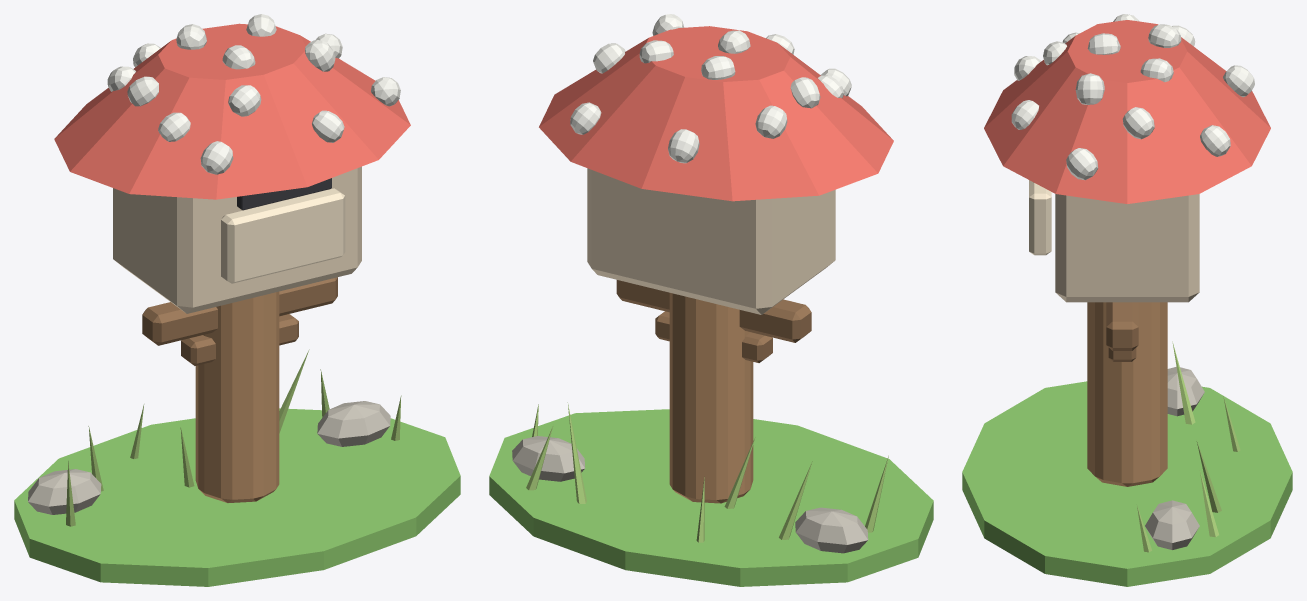
3 renders of one model, left to right at view 1: azimuth 30°, elevation 25°; view 2: azimuth 150°, elevation 25°; view 3: azimuth 270°, elevation 25°, orthographic. The views are drawn at different scales.
Parts seen in each view (by area): view 1: round grass base, broad red mushroom roof, short rounded wooden post, cream mushroom mailbox body, front letter flap, chunky cross support, small rock, small rock.001, small lower brace, wide black slot, big clean mushroom roof dot.004, big clean mushroom roof dot.002 (+7 smaller); view 2: round grass base, broad red mushroom roof, cream mushroom mailbox body, short rounded wooden post, chunky cross support, small rock.001, small rock, small lower brace, big clean mushroom roof dot.009, big clean mushroom roof dot.005, big clean mushroom roof dot.013, big clean mushroom roof dot.001 (+5 smaller); view 3: round grass base, broad red mushroom roof, cream mushroom mailbox body, short rounded wooden post, small rock, front letter flap, chunky cross support, small rock.001, big clean mushroom roof dot.014, big clean mushroom roof dot.012, big clean mushroom roof dot.007, big clean mushroom roof dot.013 (+6 smaller).
Boxes of the visible parts, x1=… form: round grass base: x1=14, y1=408, x2=460, y2=586; broad red mushroom roof: x1=54, y1=23, x2=410, y2=199; short rounded wooden post: x1=195, y1=291, x2=279, y2=502; cream mushroom mailbox body: x1=113, y1=166, x2=361, y2=313; front letter flap: x1=221, y1=188, x2=345, y2=283; chunky cross support: x1=142, y1=277, x2=337, y2=345; small rock: x1=317, y1=401, x2=390, y2=446; small rock.001: x1=28, y1=469, x2=101, y2=514; small lower brace: x1=181, y1=314, x2=298, y2=365; wide black slot: x1=237, y1=178, x2=331, y2=210; big clean mushroom roof dot.004: x1=200, y1=141, x2=233, y2=174; big clean mushroom roof dot.002: x1=228, y1=85, x2=261, y2=116; round grass base: x1=489, y1=409, x2=933, y2=586; broad red mushroom roof: x1=539, y1=26, x2=893, y2=201; cream mushroom mailbox body: x1=587, y1=168, x2=835, y2=314; short rounded wooden post: x1=669, y1=293, x2=753, y2=503; chunky cross support: x1=616, y1=280, x2=811, y2=342; small rock.001: x1=795, y1=507, x2=868, y2=553; small rock: x1=512, y1=436, x2=585, y2=481; small lower brace: x1=655, y1=311, x2=772, y2=362; big clean mushroom roof dot.009: x1=668, y1=129, x2=699, y2=163; big clean mushroom roof dot.005: x1=755, y1=105, x2=787, y2=138; big clean mushroom roof dot.013: x1=570, y1=102, x2=601, y2=134; big clean mushroom roof dot.001: x1=790, y1=77, x2=820, y2=108; round grass base: x1=962, y1=381, x2=1292, y2=586; broad red mushroom roof: x1=984, y1=20, x2=1270, y2=203; cream mushroom mailbox body: x1=1055, y1=194, x2=1199, y2=302; short rounded wooden post: x1=1087, y1=302, x2=1167, y2=486; small rock: x1=1145, y1=500, x2=1199, y2=549; front letter flap: x1=1029, y1=180, x2=1051, y2=255; chunky cross support: x1=1106, y1=302, x2=1138, y2=350; small rock.001: x1=1167, y1=366, x2=1204, y2=416; big clean mushroom roof dot.014: x1=1066, y1=148, x2=1098, y2=180; big clean mushroom roof dot.012: x1=1122, y1=107, x2=1154, y2=139; big clean mushroom roof dot.007: x1=1075, y1=73, x2=1104, y2=104; big clean mushroom roof dot.013: x1=1200, y1=125, x2=1230, y2=156.
Size of the model in its own units: 1.84 by 2.02 by 1.32.
